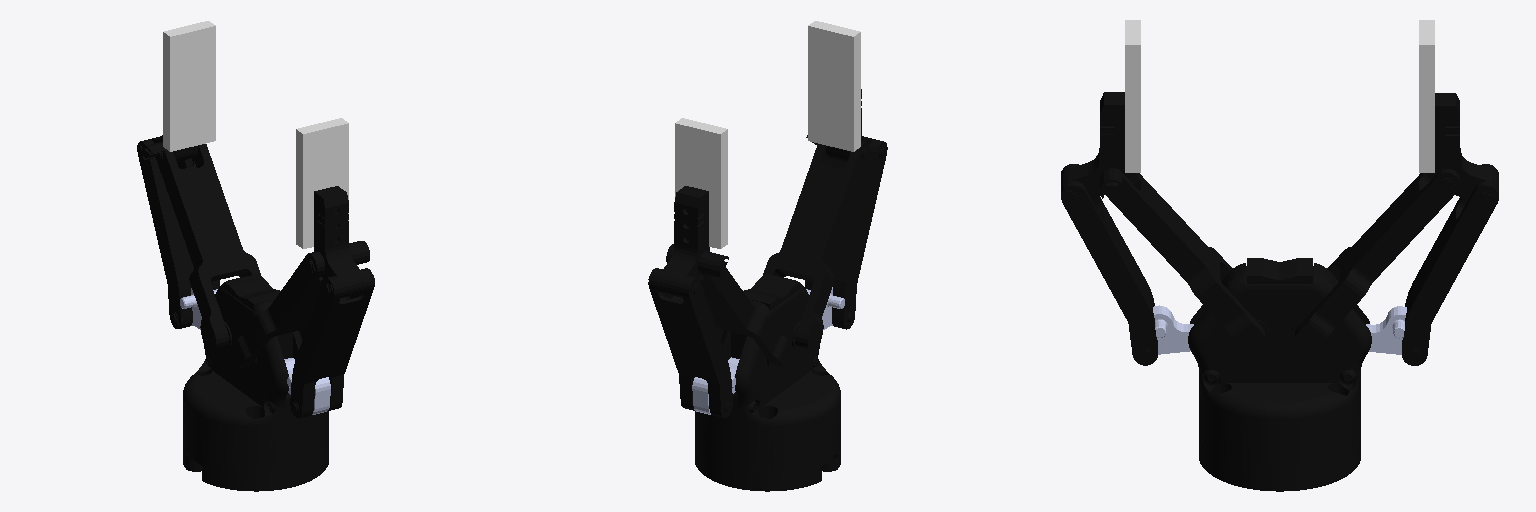
URDF robot description (panda_hand_floating):
<?xml version="1.0" ?>
<robot name="panda_hand_floating">
  <link name="world"/>
  <link name="base_world"/>
  <link name="base_px">
    <inertial>
        <origin rpy="0 0 0" xyz="0 0 0"/>
      <mass value="2"/>
      <inertia ixx="0.1" ixy="0" ixz="0" iyy="0.1" iyz="0" izz="0.1"/>
    </inertial>
  </link>
  <link name="base_py">
    <inertial>
        <origin rpy="0 0 0" xyz="0 0 0"/>
      <mass value="2"/>
      <inertia ixx="0.1" ixy="0" ixz="0" iyy="0.1" iyz="0" izz="0.1"/>
    </inertial>
  </link>
  <link name="base_pz">
    <inertial>
        <origin rpy="0 0 0" xyz="0 0 0"/>
      <mass value="2"/>
      <inertia ixx="0.1" ixy="0" ixz="0" iyy="0.1" iyz="0" izz="0.1"/>
    </inertial>
  </link>
  <link name="base_rx">
    <inertial>
        <origin rpy="0 0 0" xyz="0 0 0"/>
      <mass value="2"/>
      <inertia ixx="0.1" ixy="0" ixz="0" iyy="0.1" iyz="0" izz="0.1"/>
    </inertial>
  </link>
  <link name="base_ry">
    <inertial>
        <origin rpy="0 0 0" xyz="0 0 0"/>
      <mass value="2"/>
      <inertia ixx="0.1" ixy="0" ixz="0" iyy="0.1" iyz="0" izz="0.1"/>
    </inertial>
  </link>
  <link name="base_rz">
    <inertial>
        <origin rpy="0 0 0" xyz="0 0 0"/>
      <mass value="2"/>
      <inertia ixx="0.1" ixy="0" ixz="0" iyy="0.1" iyz="0" izz="0.1"/>
    </inertial>
  </link>
  <joint name="base_world_joint" type="fixed">
    <parent link="world"/>
    <child link="base_world"/>
    <origin rpy="0 0 0" xyz="0 0 0"/>
  </joint>
  <joint name="base_joint_pris_x" type="prismatic">
    <parent link="base_world"/>
    <child link="base_px"/>
    <origin rpy="0 0 0" xyz="0 0 0"/>
    <axis xyz="1 0 0"/>
    <limit effort="1e6" lower="-6.28" upper="6.28" velocity="6.28"/>
  </joint>
  <joint name="base_joint_pris_y" type="prismatic">
    <parent link="base_px"/>
    <child link="base_py"/>
    <origin rpy="0 0 0" xyz="0 0 0"/>
    <axis xyz="0 1 0"/>
    <limit effort="1e6" lower="-6.28" upper="6.28" velocity="6.28"/>
  </joint>
  <joint name="base_joint_pris_z" type="prismatic">
    <parent link="base_py"/>
    <child link="base_pz"/>
    <origin rpy="0 0 0" xyz="0 0 0"/>
    <axis xyz="0 0 1"/>
    <limit effort="1e6" lower="-6.28" upper="6.28" velocity="6.28"/>
  </joint>
  <joint name="base_joint_rev_x" type="continuous">
    <parent link="base_pz"/>
    <child link="base_rx"/>
    <origin rpy="0 0 0" xyz="0 0 0"/>
    <axis xyz="1 0 0"/>
    <limit effort="1e6" lower="-100" upper="100" velocity="6.28"/>
  </joint>
  <joint name="base_joint_rev_y" type="continuous">
    <parent link="base_rx"/>
    <child link="base_ry"/>
    <origin rpy="0 0 0" xyz="0 0 0"/>
    <axis xyz="0 1 0"/>
    <limit effort="1e6" lower="-100" upper="100" velocity="6.28"/>
  </joint>
  <joint name="base_joint_rev_z" type="continuous">
    <parent link="base_ry"/>
    <child link="base_rz"/>
    <origin rpy="0 0 0" xyz="0 0 0"/>
    <axis xyz="0 0 1"/>
    <limit effort="1e6" lower="-100" upper="100" velocity="6.28"/>
  </joint>
  <joint name="hand_base_joint" type="fixed">
    <parent link="base_rz"/>
    <child link="hand_base_link"/>
    <origin rpy="0 0 0" xyz="0 0 0"/>
  </joint> 
  <link name="hand_base_link">
    <inertial>
        <origin rpy="0 0 0" xyz="0 0 0"/>
        <mass value="0.0"/>
        <inertia ixx="0.0" ixy="0" ixz="0" iyy="0.0" iyz="0" izz="0.0"/>
    </inertial>
  </link>
  <joint name="panda_hand_joint" type="fixed">
    <parent link="hand_base_link"/>
    <child link="robotiq_arg2f_coupling"/>
    <origin rpy="0 0 3.1415" xyz="0 0 0"/>
  </joint>
    <link name="robotiq_arg2f_coupling">
        <inertial>
            <origin rpy="0 0 0" xyz="0 0 0"/>
            <mass value="0.05"/>
            <inertia ixx="2E-06" ixy="-4E-10" ixz="-2E-10" iyy="2E-06" iyz="-3E-08" izz="2E-06"/>
        </inertial>
        <visual>
            <origin rpy="0 0 0" xyz="0 0 0"/>
            <geometry>
                <mesh filename="meshes/robotiq_2f140/visual/robotiq_arg2f_coupling.obj" scale="0.001 0.001 0.001"/>
            </geometry>
            <material name="">
                <color rgba="0.1 0.1 0.1 1"/>
            </material>
        </visual>
        <collision>
            <origin rpy="0 0 0" xyz="0 0 0"/>
            <geometry>
                <mesh filename="meshes/robotiq_2f140/collision/robotiq_arg2f_coupling.obj" scale="0.001 0.001 0.001"/>
            </geometry>
        </collision>
    </link>
    <link name="robotiq_arg2f_base_link">
        <inertial>
            <origin rpy="0 0 0" xyz="8.625E-08 -4.6583E-06 0.03145"/>
            <mass value="0.22652"/>
            <inertia ixx="0.00020005" ixy="-4.2442E-10" ixz="-2.9069E-10" iyy="0.00017832" iyz="-3.4402E-08"
                     izz="0.00013478"/>
        </inertial>
        <visual>
            <origin rpy="0 0 0" xyz="0 0 0"/>
            <geometry>
                <mesh filename="meshes/robotiq_2f140/visual/robotiq_arg2f_base_link.obj"/>
            </geometry>
            <material name="">
                <color rgba="0.1 0.1 0.1 1"/>
            </material>
        </visual>
        <collision>
            <origin rpy="0 0 0" xyz="0 0 0"/>
            <geometry>
                <mesh filename="meshes/robotiq_2f140/collision/robotiq_arg2f_base_link.obj"/>
            </geometry>
        </collision>
    </link>
    <link name="left_outer_knuckle">
        <inertial>
            <origin rpy="0 0 0" xyz="-0.000200000000003065 0.0199435877845359 0.0292245259211331"/>
            <mass value="0.00853198276973456"/>
            <inertia ixx="2.89328108496468E-06" ixy="-1.57935047237397E-19" ixz="-1.93980378593255E-19"
                     iyy="1.86719750325683E-06" iyz="-1.21858577871576E-06" izz="1.21905238907251E-06"/>
        </inertial>
        <visual>
            <origin rpy="0 0 0" xyz="0 0 0"/>
            <geometry>
                <mesh filename="meshes/robotiq_2f140/visual/robotiq_arg2f_140_outer_knuckle.obj"/>
            </geometry>
            <material name="">
                <color rgba="0.792156862745098 0.819607843137255 0.933333333333333 1"/>
            </material>
        </visual>
        <collision>
            <origin rpy="0 0 0" xyz="0 0 0"/>
            <geometry>
                <mesh filename="meshes/robotiq_2f140/collision/robotiq_arg2f_140_outer_knuckle.obj"/>
            </geometry>
        </collision>
    </link>
    <link name="left_outer_finger">
        <inertial>
            <origin rpy="0 0 0" xyz="0.00030115855001899 0.0373907951953854 -0.0208027427000385"/>
            <mass value="0.022614240507152"/>
            <inertia ixx="1.52518312458174E-05" ixy="9.76583423954399E-10" ixz="-5.43838577022588E-10"
                     iyy="6.17694243867776E-06" iyz="6.78636130740228E-06" izz="1.16494917907219E-05"/>
        </inertial>
        <visual>
            <origin rpy="0 0 0" xyz="0 0 0"/>
            <geometry>
                <mesh filename="meshes/robotiq_2f140/visual/robotiq_arg2f_140_outer_finger.obj"/>
            </geometry>
            <material name="">
                <color rgba="0.1 0.1 0.1 1"/>
            </material>
        </visual>
        <collision>
            <origin rpy="0 0 0" xyz="0 0 0"/>
            <geometry>
                <mesh filename="meshes/robotiq_2f140/collision/robotiq_arg2f_140_outer_finger.obj"/>
            </geometry>
        </collision>
    </link>
    <link name="left_inner_finger">
        <inertial>
            <origin rpy="0 0 0" xyz="0.000299999999999317 0.0160078233491243 -0.0136945669206257"/>
            <mass value="0.0104003125914103"/>
            <inertia ixx="2.71909453810972E-06" ixy="1.35402465472579E-21" ixz="-7.1817349065269E-22"
                     iyy="7.69100314106116E-07" iyz="6.74715432769696E-07" izz="2.30315190420171E-06"/>
        </inertial>
        <visual>
            <origin rpy="0 0 0" xyz="0 0 0"/>
            <geometry>
                <mesh filename="meshes/robotiq_2f140/visual/robotiq_arg2f_140_inner_finger.obj"/>
            </geometry>
            <material name="">
                <color rgba="0.1 0.1 0.1 1"/>
            </material>
        </visual>
        <collision>
            <origin rpy="0 0 0" xyz="0 0 0"/>
            <geometry>
                <mesh filename="meshes/robotiq_2f140/collision/robotiq_arg2f_140_inner_finger.obj"/>
            </geometry>
        </collision>
    </link>
    <link name="left_inner_finger_pad">
        <visual>
            <origin rpy="0 0 0" xyz="0 0 0"/>
            <geometry>
                <box size="0.027 0.065 0.0075"/>
            </geometry>
            <material name="">
                <color rgba="0.9 0.9 0.9 1"/>
            </material>
        </visual>
        <collision>
            <origin rpy="0 0 0" xyz="0 0 0"/>
            <geometry>
                <box size="0.03 0.07 0.0075"/>
            </geometry>
            <material name="">
                <color rgba="0.9 0.0 0.0 1"/>
            </material>
        </collision>
    </link>
    <link name="left_inner_knuckle">
        <inertial>
            <origin rpy="0 0 0" xyz="0.000123011831763771 0.0507850843201817 0.00103968640075166"/>
            <mass value="0.0271177346495152"/>
            <inertia ixx="2.61910379223783E-05" ixy="-2.43616858946494E-07" ixz="-6.37789906117123E-09"
                     iyy="2.8270243746167E-06" iyz="-5.37200748039765E-07" izz="2.83695868220296E-05"/>
        </inertial>
        <visual>
            <origin rpy="0 0 0" xyz="0 0 0"/>
            <geometry>
                <mesh filename="meshes/robotiq_2f140/visual/robotiq_arg2f_140_inner_knuckle.obj"/>
            </geometry>
            <material name="">
                <color rgba="0.1 0.1 0.1 1"/>
            </material>
        </visual>
        <collision>
            <origin rpy="0 0 0" xyz="0 0 0"/>
            <geometry>
                <mesh filename="meshes/robotiq_2f140/collision/robotiq_arg2f_140_inner_knuckle.obj"/>
            </geometry>
        </collision>
    </link>
    <link name="right_outer_knuckle">
        <inertial>
            <origin rpy="0 0 0" xyz="-0.000200000000003065 0.0199435877845359 0.0292245259211331"/>
            <mass value="0.00853198276973456"/>
            <inertia ixx="2.89328108496468E-06" ixy="-1.57935047237397E-19" ixz="-1.93980378593255E-19"
                     iyy="1.86719750325683E-06" iyz="-1.21858577871576E-06" izz="1.21905238907251E-06"/>
        </inertial>
        <visual>
            <origin rpy="0 0 0" xyz="0 0 0"/>
            <geometry>
                <mesh filename="meshes/robotiq_2f140/visual/robotiq_arg2f_140_outer_knuckle.obj"/>
            </geometry>
            <material name="">
                <color rgba="0.792156862745098 0.819607843137255 0.933333333333333 1"/>
            </material>
        </visual>
        <collision>
            <origin rpy="0 0 0" xyz="0 0 0"/>
            <geometry>
                <mesh filename="meshes/robotiq_2f140/collision/robotiq_arg2f_140_outer_knuckle.obj"/>
            </geometry>
        </collision>
    </link>
    <link name="right_outer_finger">
        <inertial>
            <origin rpy="0 0 0" xyz="0.00030115855001899 0.0373907951953854 -0.0208027427000385"/>
            <mass value="0.022614240507152"/>
            <inertia ixx="1.52518312458174E-05" ixy="9.76583423954399E-10" ixz="-5.43838577022588E-10"
                     iyy="6.17694243867776E-06" iyz="6.78636130740228E-06" izz="1.16494917907219E-05"/>
        </inertial>
        <visual>
            <origin rpy="0 0 0" xyz="0 0 0"/>
            <geometry>
                <mesh filename="meshes/robotiq_2f140/visual/robotiq_arg2f_140_outer_finger.obj"/>
            </geometry>
            <material name="">
                <color rgba="0.1 0.1 0.1 1"/>
            </material>
        </visual>
        <collision>
            <origin rpy="0 0 0" xyz="0 0 0"/>
            <geometry>
                <mesh filename="meshes/robotiq_2f140/collision/robotiq_arg2f_140_outer_finger.obj"/>
            </geometry>
        </collision>
    </link>
    <link name="right_inner_finger">
        <inertial>
            <origin rpy="0 0 0" xyz="0.000299999999999317 0.0160078233491243 -0.0136945669206257"/>
            <mass value="0.0104003125914103"/>
            <inertia ixx="2.71909453810972E-06" ixy="1.35402465472579E-21" ixz="-7.1817349065269E-22"
                     iyy="7.69100314106116E-07" iyz="6.74715432769696E-07" izz="2.30315190420171E-06"/>
        </inertial>
        <visual>
            <origin rpy="0 0 0" xyz="0 0 0"/>
            <geometry>
                <mesh filename="meshes/robotiq_2f140/visual/robotiq_arg2f_140_inner_finger.obj"/>
            </geometry>
            <material name="">
                <color rgba="0.1 0.1 0.1 1"/>
            </material>
        </visual>
        <collision>
            <origin rpy="0 0 0" xyz="0 0 0"/>
            <geometry>
                <mesh filename="meshes/robotiq_2f140/collision/robotiq_arg2f_140_inner_finger.obj"/>
            </geometry>
        </collision>
    </link>
    <link name="right_inner_finger_pad">
        <visual>
            <origin rpy="0 0 0" xyz="0 0 0"/>
            <geometry>
                <box size="0.027 0.065 0.0075"/>
            </geometry>
            <material name="">
                <color rgba="0.9 0.9 0.9 1"/>
            </material>
        </visual>
        <collision>
            <origin rpy="0 0 0" xyz="0 0 0"/>
            <geometry>
                <box size="0.03 0.07 0.0075"/>
            </geometry>
            <material name="">
                <color rgba="0.9 0.0 0.0 1"/>
            </material>
        </collision>
    </link>
    <link name="right_inner_knuckle">
        <inertial>
            <origin rpy="0 0 0" xyz="0.000123011831763771 0.0507850843201817 0.00103968640075166"/>
            <mass value="0.0271177346495152"/>
            <inertia ixx="2.61910379223783E-05" ixy="-2.43616858946494E-07" ixz="-6.37789906117123E-09"
                     iyy="2.8270243746167E-06" iyz="-5.37200748039765E-07" izz="2.83695868220296E-05"/>
        </inertial>
        <visual>
            <origin rpy="0 0 0" xyz="0 0 0"/>
            <geometry>
                <mesh filename="meshes/robotiq_2f140/visual/robotiq_arg2f_140_inner_knuckle.obj"/>
            </geometry>
            <material name="">
                <color rgba="0.1 0.1 0.1 1"/>
            </material>
        </visual>
        <collision>
            <origin rpy="0 0 0" xyz="0 0 0"/>
            <geometry>
                <mesh filename="meshes/robotiq_2f140/collision/robotiq_arg2f_140_inner_knuckle.obj"/>
            </geometry>
        </collision>
    </link>
    <joint name="finger_joint" type="revolute">
        <origin rpy="2.29579632679 0 0" xyz="0 -0.030601 0.054905"/>
        <parent link="robotiq_arg2f_base_link"/>
        <child link="left_outer_knuckle"/>
        <axis xyz="-1 0 0"/>
        <limit effort="1000" lower="0" upper="0.7" velocity="2.0"/>
    </joint>
    <joint name="left_outer_finger_joint" type="fixed">
        <origin rpy="0 0 0" xyz="0 0.01821998610742 0.0260018192872234"/>
        <parent link="left_outer_knuckle"/>
        <child link="left_outer_finger"/>
        <axis xyz="1 0 0"/>
    </joint>
    <joint name="left_inner_knuckle_joint" type="revolute">
        <origin rpy="2.29579632679 0 0.0" xyz="0 -0.0127 0.06142"/>
        <parent link="robotiq_arg2f_base_link"/>
        <child link="left_inner_knuckle"/>
        <axis xyz="1 0 0"/>
        <limit effort="1000" lower="-0.8757" upper="0.8757" velocity="2.0"/>
        <mimic joint="finger_joint" multiplier="-1" offset="0"/>
    </joint>
    <joint name="left_inner_finger_joint" type="revolute">
        <origin rpy="-0.725 0 0" xyz="0 0.0817554015893473 -0.0282203446692936"/>
        <parent link="left_outer_finger"/>
        <child link="left_inner_finger"/>
        <axis xyz="1 0 0"/>
        <limit effort="1000" lower="-0.8757" upper="0.8757" velocity="2.0"/>
        <mimic joint="finger_joint" multiplier="1" offset="0"/>
    </joint>
    <joint name="left_inner_finger_pad_joint" type="fixed">
        <origin rpy="0 0 0" xyz="0 0.0457554015893473 -0.0272203446692936"/>
        <parent link="left_inner_finger"/>
        <child link="left_inner_finger_pad"/>
        <axis xyz="0 0 1"/>
    </joint>
    <joint name="right_outer_knuckle_joint" type="revolute">
        <origin rpy="2.29579632679 0 3.14159265359" xyz="0 0.030601 0.054905"/>
        <parent link="robotiq_arg2f_base_link"/>
        <child link="right_outer_knuckle"/>
        <axis xyz="1 0 0"/>
        <limit effort="1000" lower="-0.725" upper="0.725" velocity="2.0"/>
        <mimic joint="finger_joint" multiplier="-1" offset="0"/>
    </joint>
    <joint name="right_outer_finger_joint" type="fixed">
        <origin rpy="0 0 0" xyz="0 0.01821998610742 0.0260018192872234"/>
        <parent link="right_outer_knuckle"/>
        <child link="right_outer_finger"/>
        <axis xyz="1 0 0"/>
    </joint>
    <joint name="right_inner_knuckle_joint" type="revolute">
        <origin rpy="2.29579632679 0 -3.14159265359" xyz="0 0.0127 0.06142"/>
        <parent link="robotiq_arg2f_base_link"/>
        <child link="right_inner_knuckle"/>
        <axis xyz="1 0 0"/>
        <limit effort="1000" lower="-0.8757" upper="0.8757" velocity="2.0"/>
        <mimic joint="finger_joint" multiplier="-1" offset="0"/>
    </joint>
    <joint name="right_inner_finger_joint" type="revolute">
        <origin rpy="-0.725 0 0" xyz="0 0.0817554015893473 -0.0282203446692936"/>
        <parent link="right_outer_finger"/>
        <child link="right_inner_finger"/>
        <axis xyz="1 0 0"/>
        <limit effort="1000" lower="-0.8757" upper="0.8757" velocity="2.0"/>
        <mimic joint="finger_joint" multiplier="1" offset="0"/>
    </joint>
    <joint name="right_inner_finger_pad_joint" type="fixed">
        <origin rpy="0 0 0" xyz="0 0.0457554015893473 -0.0272203446692936"/>
        <parent link="right_inner_finger"/>
        <child link="right_inner_finger_pad"/>
        <axis xyz="0 0 1"/>
    </joint>
    <transmission name="finger_joint_trans">
        <type>transmission_interface/SimpleTransmission</type>
        <joint name="finger_joint">
            <hardwareInterface>hardware_interface/PositionJointInterface</hardwareInterface>
        </joint>
        <actuator name="finger_joint_motor">
            <mechanicalReduction>1</mechanicalReduction>
        </actuator>
    </transmission>
    <gazebo>
        <!-- loading plugin: mimic joints works in gazebo now-->
        <plugin filename="libroboticsgroup_gazebo_mimic_joint_plugin.so" name="mimic_robotiq_140_4">
            <joint>finger_joint</joint>
            <mimicJoint>right_outer_knuckle_joint</mimicJoint>
            <multiplier>-1.0</multiplier>
        </plugin>
        <plugin filename="libroboticsgroup_gazebo_mimic_joint_plugin.so" name="mimic_robotiq_140_2">
            <joint>finger_joint</joint>
            <mimicJoint>left_inner_finger_joint</mimicJoint>
            <multiplier>1.0</multiplier>
            <!--<offset>0.0</offset>-->
        </plugin>
        <plugin filename="libroboticsgroup_gazebo_mimic_joint_plugin.so" name="mimic_robotiq_140_1">
            <joint>finger_joint</joint>
            <mimicJoint>right_inner_finger_joint</mimicJoint>
            <multiplier>1.0</multiplier>
        </plugin>
        <plugin filename="libroboticsgroup_gazebo_mimic_joint_plugin.so" name="mimic_robotiq_140_3">
            <joint>finger_joint</joint>
            <mimicJoint>left_inner_knuckle_joint</mimicJoint>
            <multiplier>-1.0</multiplier>
        </plugin>
        <plugin filename="libroboticsgroup_gazebo_mimic_joint_plugin.so" name="mimic_robotiq_140_5">
            <joint>finger_joint</joint>
            <mimicJoint>right_inner_knuckle_joint</mimicJoint>
            <multiplier>-1.0</multiplier>
        </plugin>
    </gazebo>
    <joint name="base_coupling" type="fixed">
        <origin rpy="0 0 0" xyz="0 0 0"/>
        <parent link="robotiq_arg2f_coupling"/>
        <child link="robotiq_arg2f_base_link"/>
    </joint>
   <link name="panda_grasptarget">
     <inertial>
      <origin rpy="0 0 0" xyz="0 0 0"/>
       <mass value="0.0"/>
       <inertia ixx="0.1" ixy="0" ixz="0" iyy="0.1" iyz="0" izz="0.1"/>
    </inertial>
   </link>
   <joint name="panda_grasptarget_hand" type="fixed">
    <parent link="robotiq_arg2f_coupling"/>
    <child link="panda_grasptarget"/>
    <origin rpy="0 0 0" xyz="0 0 0.23"/>
  </joint>
</robot>

--- What the picture shows (computed from the rendered views, not written in the file) ---
The picture shows the robot from 3 angles, left to right: view 1: azimuth 30°, elevation 25°; view 2: azimuth 150°, elevation 25°; view 3: azimuth 270°, elevation 25°; orthographic projection.
Robot: panda_hand_floating — 22 links, 21 joints (6 revolute, 3 continuous, 3 prismatic, 9 fixed); root link world; default pose: all joints at 0.
Visible links, largest first — view 1: robotiq_arg2f_base_link, left_inner_knuckle, right_outer_finger, left_inner_finger_pad, right_inner_knuckle, right_inner_finger_pad, left_outer_finger, right_inner_finger, robotiq_arg2f_coupling, right_outer_knuckle; view 2: robotiq_arg2f_base_link, right_inner_knuckle, left_outer_finger, right_inner_finger_pad, left_inner_finger_pad, right_outer_finger, left_inner_knuckle, left_inner_finger, robotiq_arg2f_coupling, left_outer_knuckle; view 3: robotiq_arg2f_base_link, right_inner_knuckle, left_inner_knuckle, left_outer_finger, right_outer_finger, robotiq_arg2f_coupling, left_inner_finger, right_inner_finger, left_inner_finger_pad, right_inner_finger_pad, right_outer_knuckle, left_outer_knuckle.
Link boxes in pixels (<box>): robotiq_arg2f_base_link: <box>183,274,328,473</box>; left_inner_knuckle: <box>142,142,261,349</box>; right_outer_finger: <box>290,268,374,417</box>; left_inner_finger_pad: <box>163,21,215,151</box>; right_inner_knuckle: <box>229,241,369,367</box>; right_inner_finger_pad: <box>296,118,348,248</box>; left_outer_finger: <box>137,136,219,328</box>; right_inner_finger: <box>314,186,365,297</box>; robotiq_arg2f_coupling: <box>183,441,328,491</box>; right_outer_knuckle: <box>284,358,330,414</box>; robotiq_arg2f_base_link: <box>695,274,840,473</box>; right_inner_knuckle: <box>762,135,869,349</box>; left_outer_finger: <box>648,268,732,417</box>; right_inner_finger_pad: <box>808,21,860,151</box>; left_inner_finger_pad: <box>675,118,727,248</box>; right_outer_finger: <box>805,136,887,329</box>; left_inner_knuckle: <box>666,244,793,367</box>; left_inner_finger: <box>657,186,709,297</box>; robotiq_arg2f_coupling: <box>695,441,840,491</box>; left_outer_knuckle: <box>692,357,739,414</box>; robotiq_arg2f_base_link: <box>1188,258,1371,471</box>; right_inner_knuckle: <box>1100,168,1264,352</box>; left_inner_knuckle: <box>1295,169,1459,352</box>; left_outer_finger: <box>1402,164,1498,365</box>; right_outer_finger: <box>1061,164,1157,365</box>; robotiq_arg2f_coupling: <box>1199,437,1360,491</box>; left_inner_finger: <box>1434,93,1497,198</box>; right_inner_finger: <box>1062,92,1125,198</box>; left_inner_finger_pad: <box>1419,20,1434,172</box>; right_inner_finger_pad: <box>1125,20,1140,172</box>; right_outer_knuckle: <box>1153,305,1193,354</box>; left_outer_knuckle: <box>1366,306,1406,354</box>.
Bounding box of the posed robot: 0.075 × 0.2024 × 0.2165 m (x, y, z).
10 mesh visuals loaded from 6 distinct referenced files (6 OBJ).